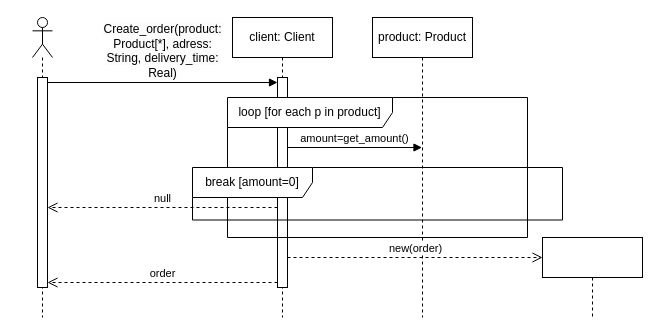
Image size: 660x335. Some labels were removed from this diagram. Each missing label, with the box of its shape:
:user: (32, 16, 52, 318)
order: Order: (542, 236, 642, 318)
